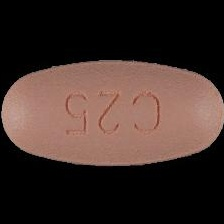55289-443: (0, 0, 224, 224)
